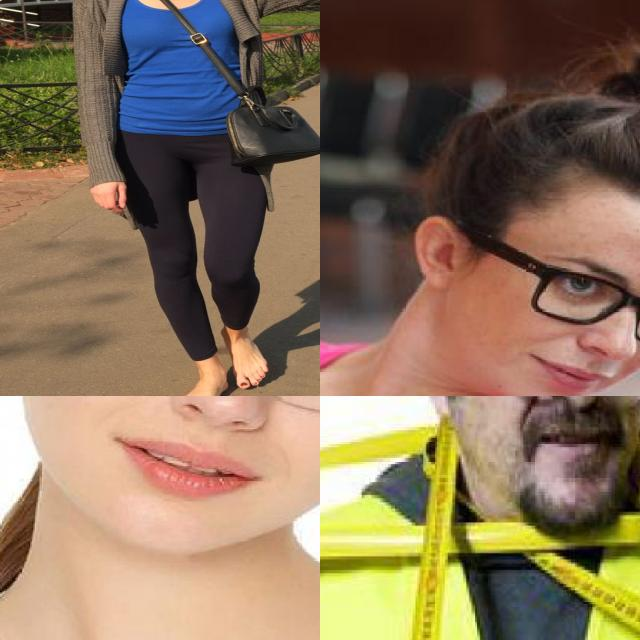Barefoots: (220, 326, 268, 389), (177, 374, 228, 396)
No_Ear-Protection: (406, 207, 473, 295), (395, 396, 465, 428)
face_nomask: (104, 396, 320, 514), (515, 242, 640, 396), (482, 396, 640, 468)
glasses: (461, 220, 640, 341)
head_nohelmet: (481, 31, 640, 233)
person: (320, 37, 640, 396), (320, 396, 640, 640)
vest: (320, 440, 640, 640)
